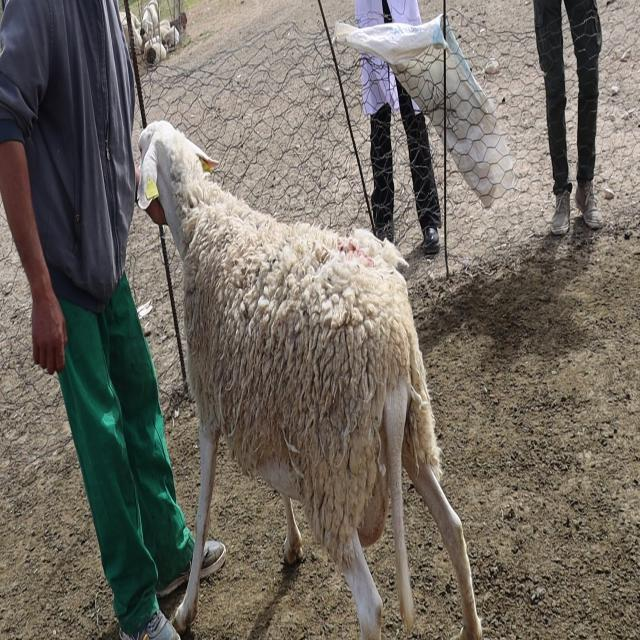Score_4: (138, 121, 482, 639)
